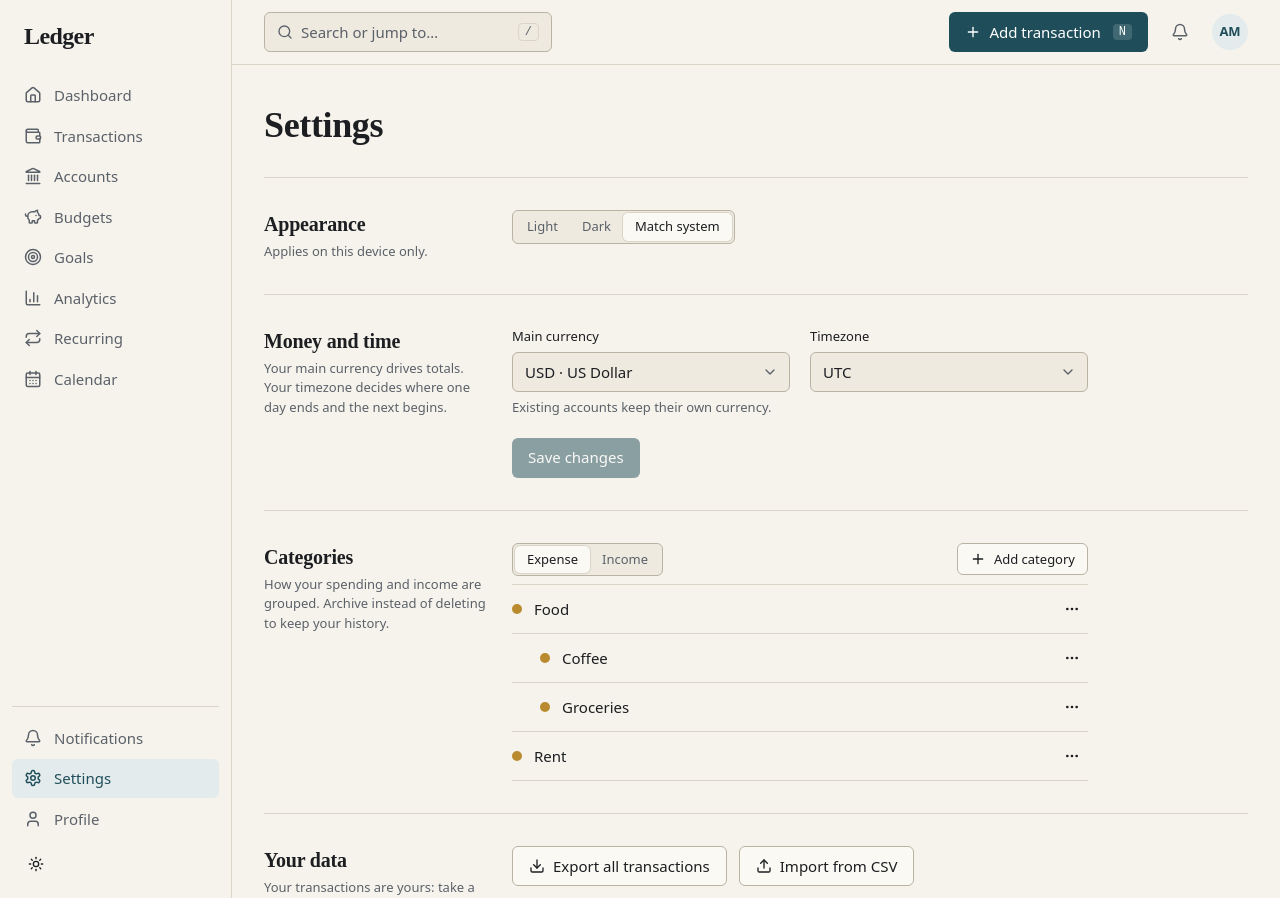
it: category manager (Settings) › archives a category without deleting its history
This screenshot has width=1280, height=898.
Click the button named "Actions for Rent".
click(1072, 756)  # box left=1056, top=740, right=1088, bottom=772
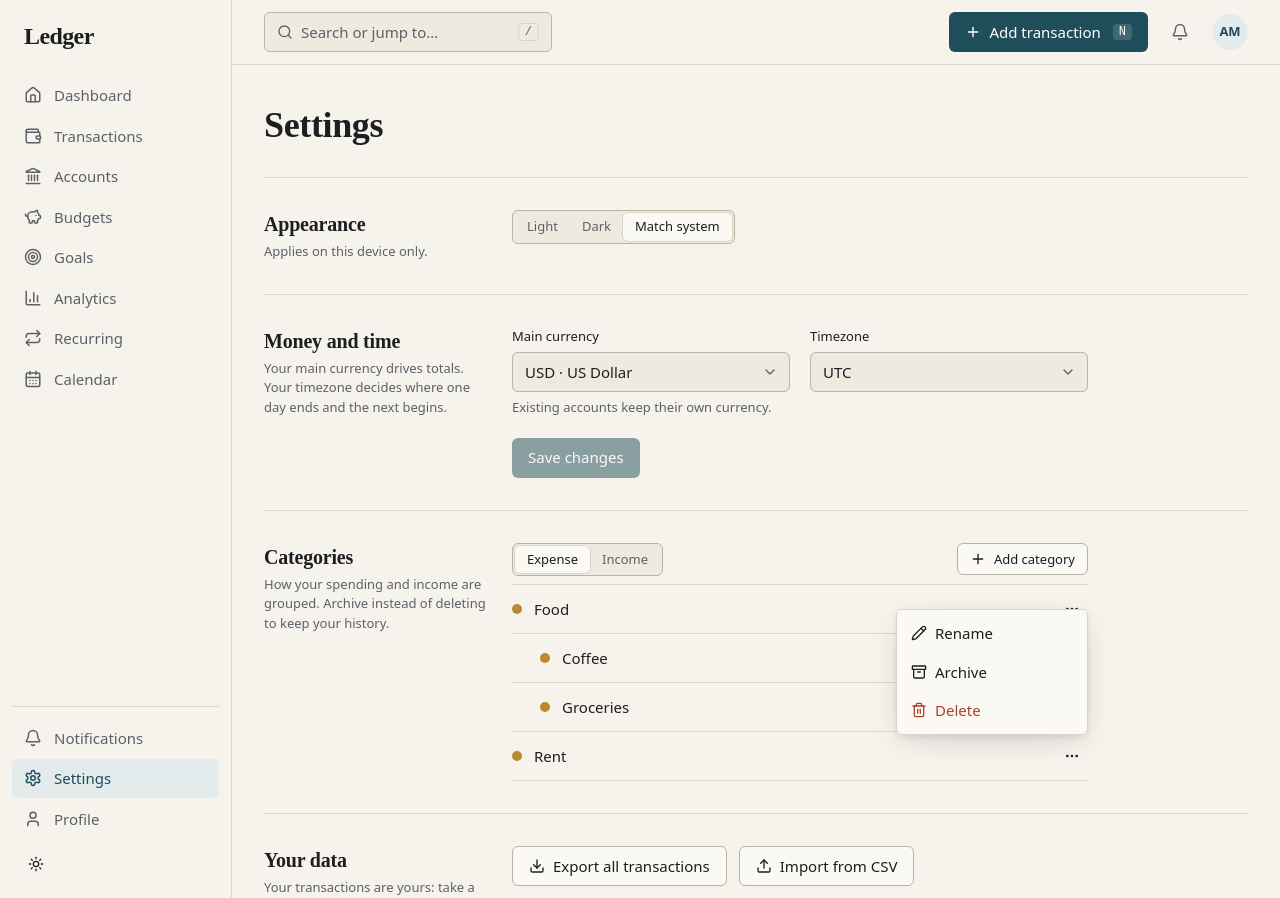
Click the menu item "Archive".
click(949, 672)  # box left=911, top=662, right=987, bottom=682
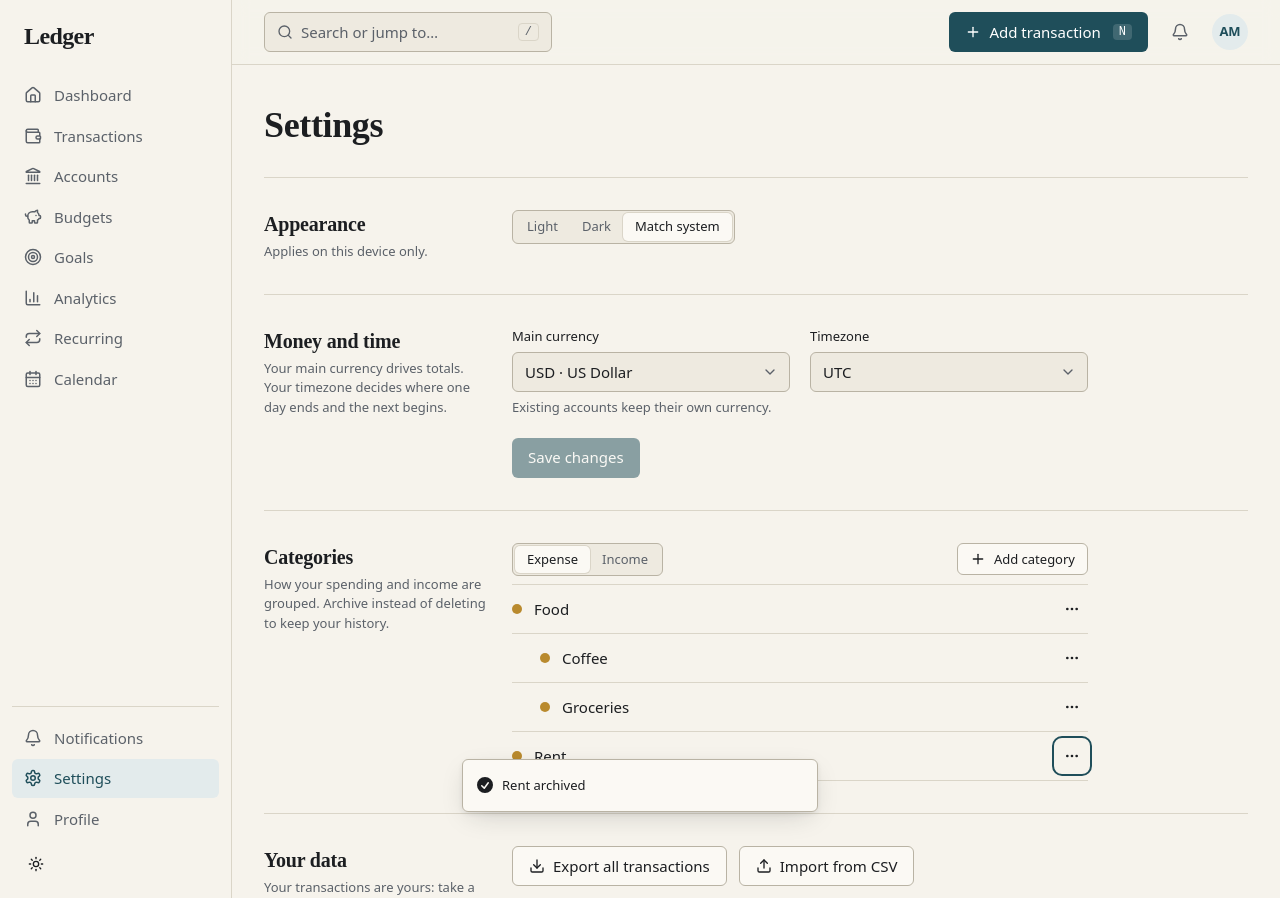
Expected: the text "Rent archived" is shown, left=502, top=776, right=586, bottom=795
